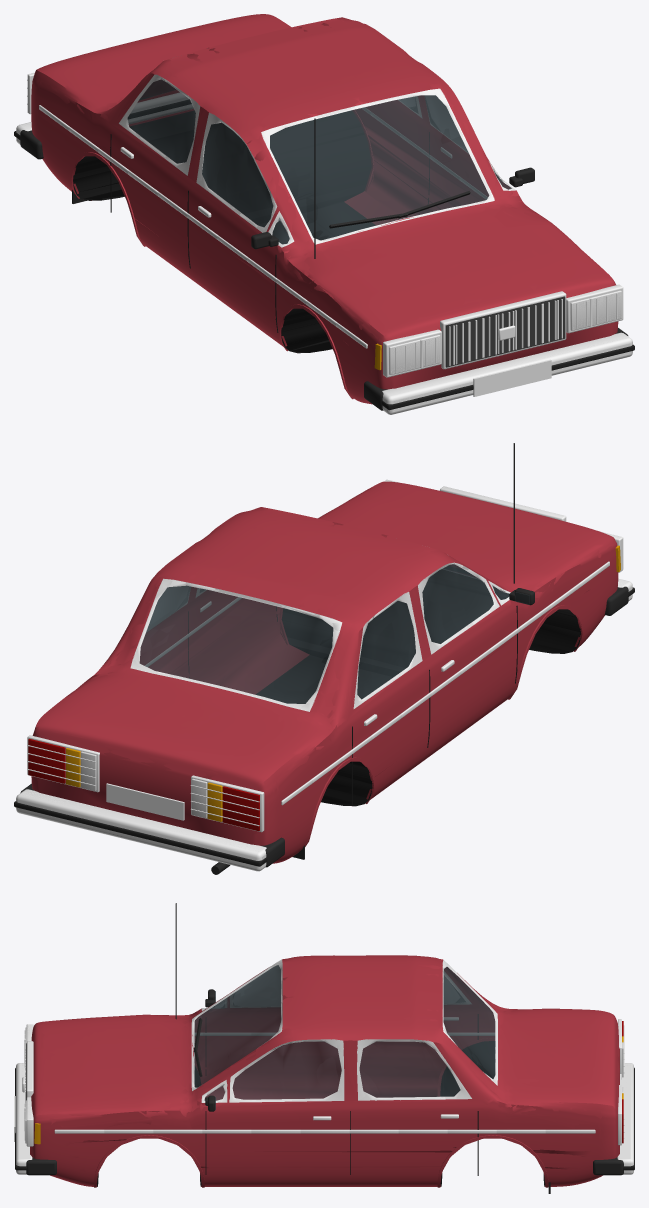
File: vaz2107.glb
3 views of the same model, one above another, from view 1: azimuth 30°, elevation 25°; view 2: azimuth 150°, elevation 25°; view 3: azimuth 270°, elevation 25° (orthographic). The views are drawn at different scales.
Visible parts, largest first — view 1: LOD_hi, LOD0; view 2: LOD_hi, LOD0; view 3: LOD_hi, LOD0.
Boxes of the visible parts, x1,y1,x2,y2 form: LOD_hi: (14, 14, 634, 414); LOD0: (16, 15, 633, 411); LOD_hi: (14, 443, 634, 874); LOD0: (21, 444, 634, 873); LOD_hi: (14, 903, 634, 1193); LOD0: (14, 903, 630, 1185).
Size of what is drawn, in the model's own units: 1.89 by 1.6 by 4.38.
